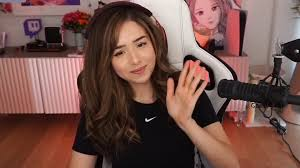person: (68, 1, 240, 167)
